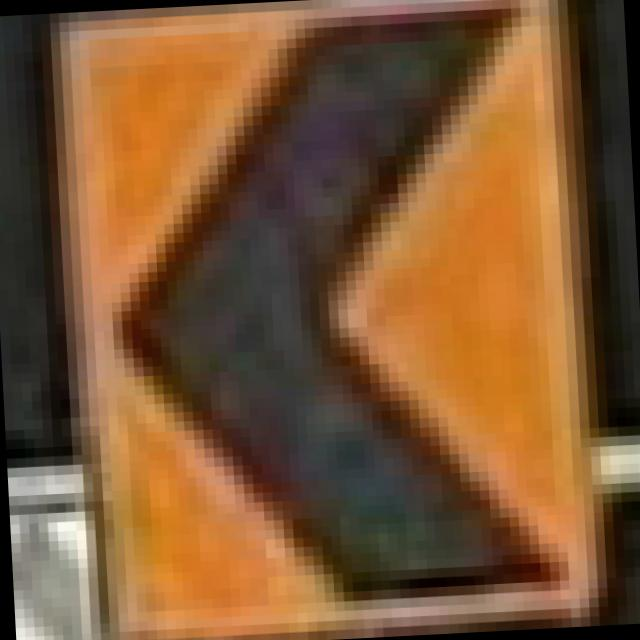curveleft_sign: (40, 0, 609, 640)
